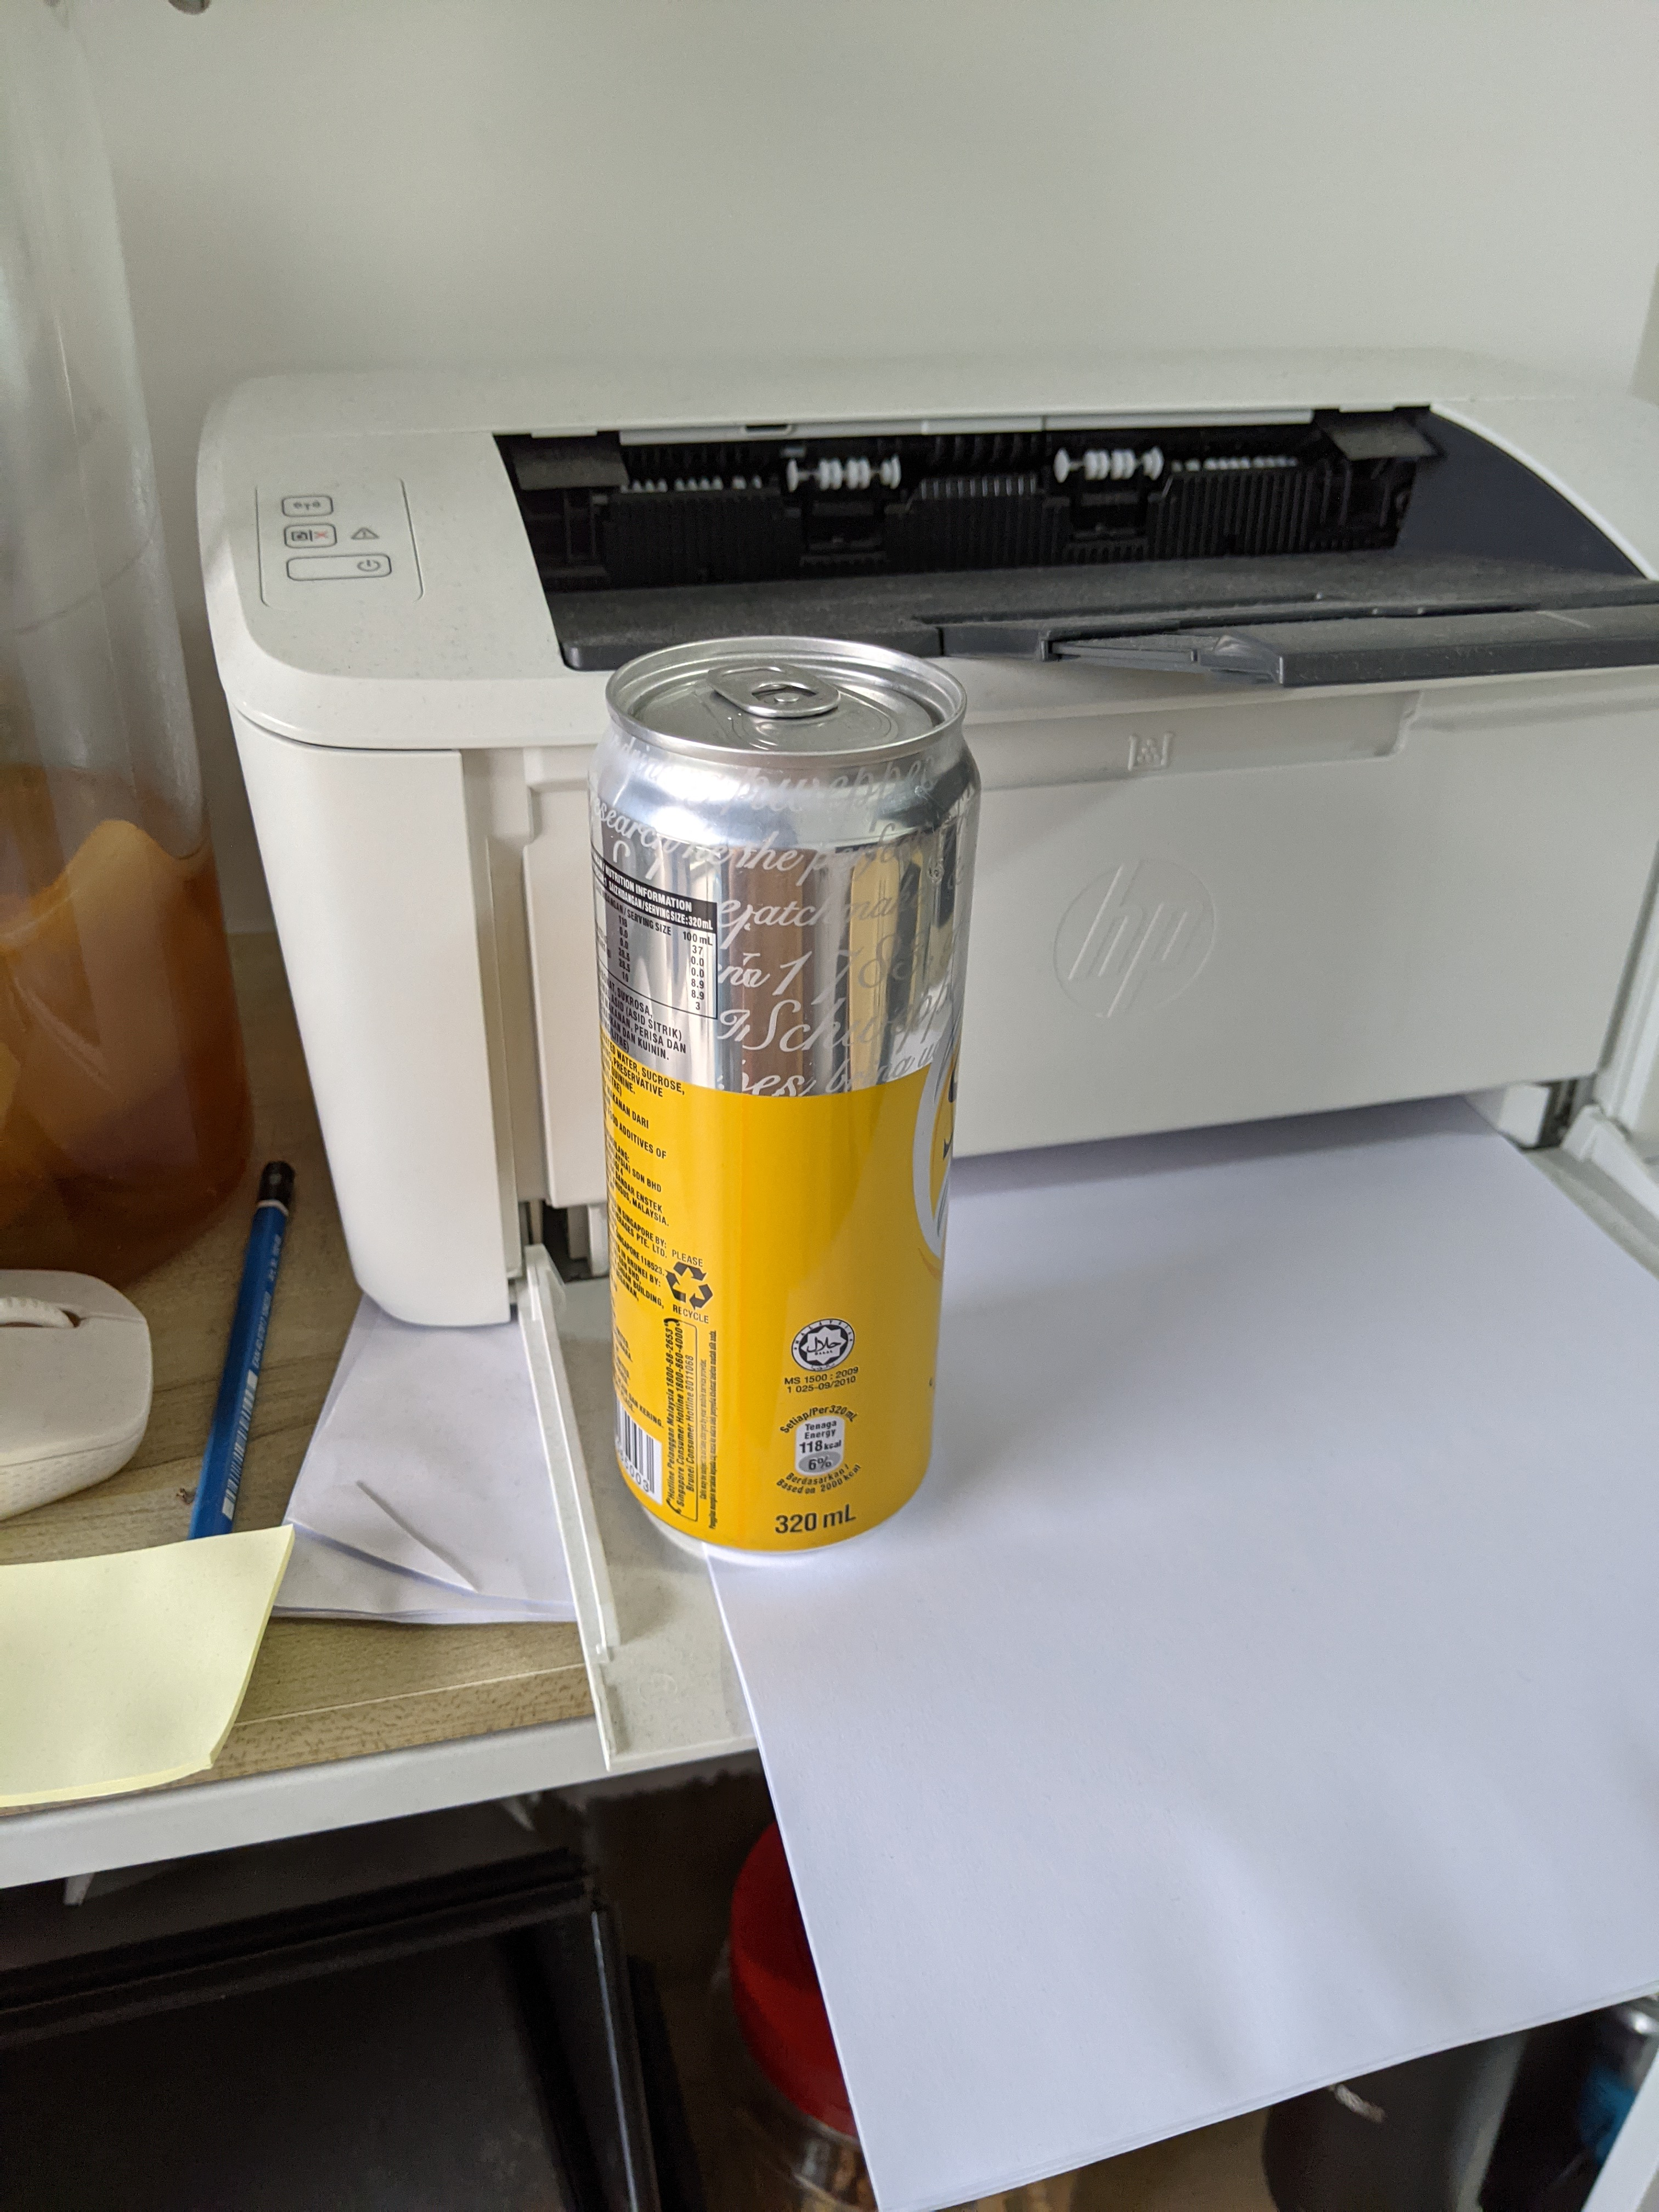schweppes drink can tonic water: (575, 610, 1002, 1606)
